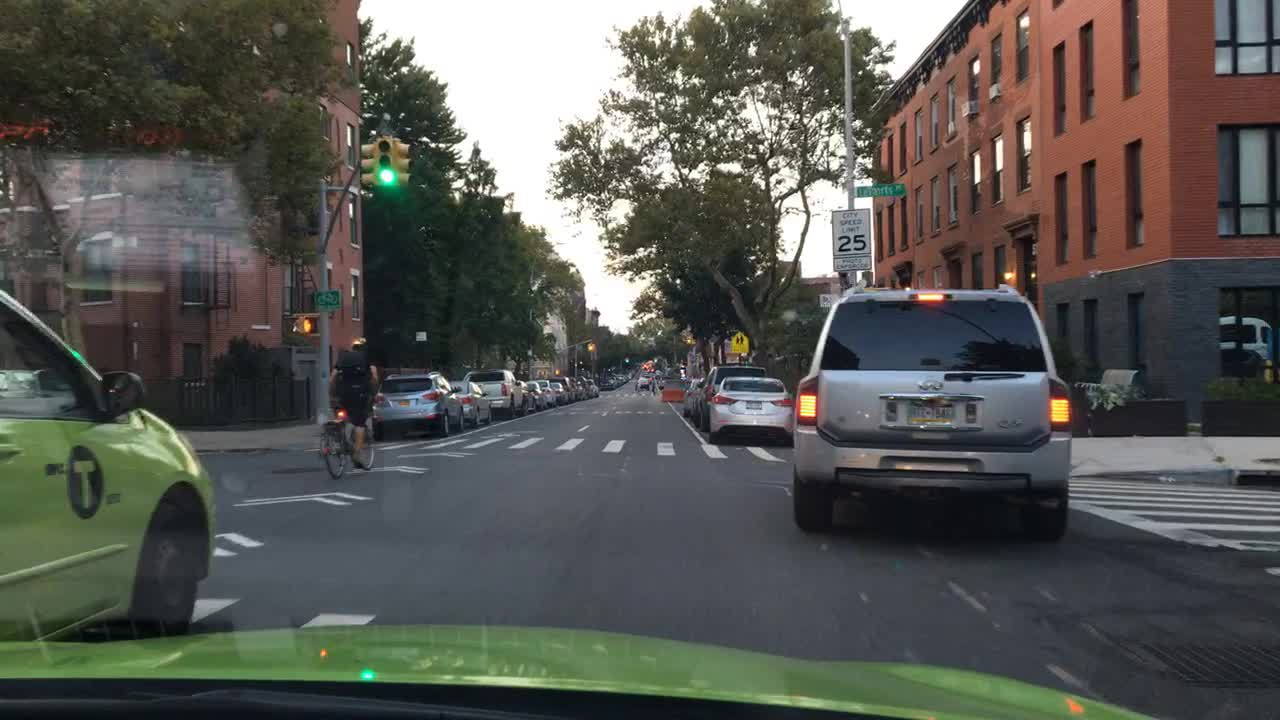bike: (318, 390, 380, 476)
car: (0, 289, 218, 646), (789, 283, 1071, 541), (706, 376, 792, 440), (373, 375, 462, 436), (697, 363, 766, 435), (469, 371, 525, 416), (455, 381, 492, 426), (681, 378, 698, 417), (535, 380, 566, 399), (517, 383, 537, 409), (531, 386, 551, 408), (572, 378, 588, 398), (562, 381, 577, 401), (583, 379, 598, 395), (633, 378, 651, 390), (601, 376, 612, 390), (612, 375, 627, 383)
rider: (321, 336, 381, 466)
traffic light: (374, 137, 393, 184), (395, 140, 411, 187), (358, 142, 373, 185), (298, 315, 315, 335)
traffic sign: (829, 209, 870, 272), (854, 183, 905, 198), (316, 288, 341, 310), (731, 329, 747, 353), (252, 321, 272, 330)
